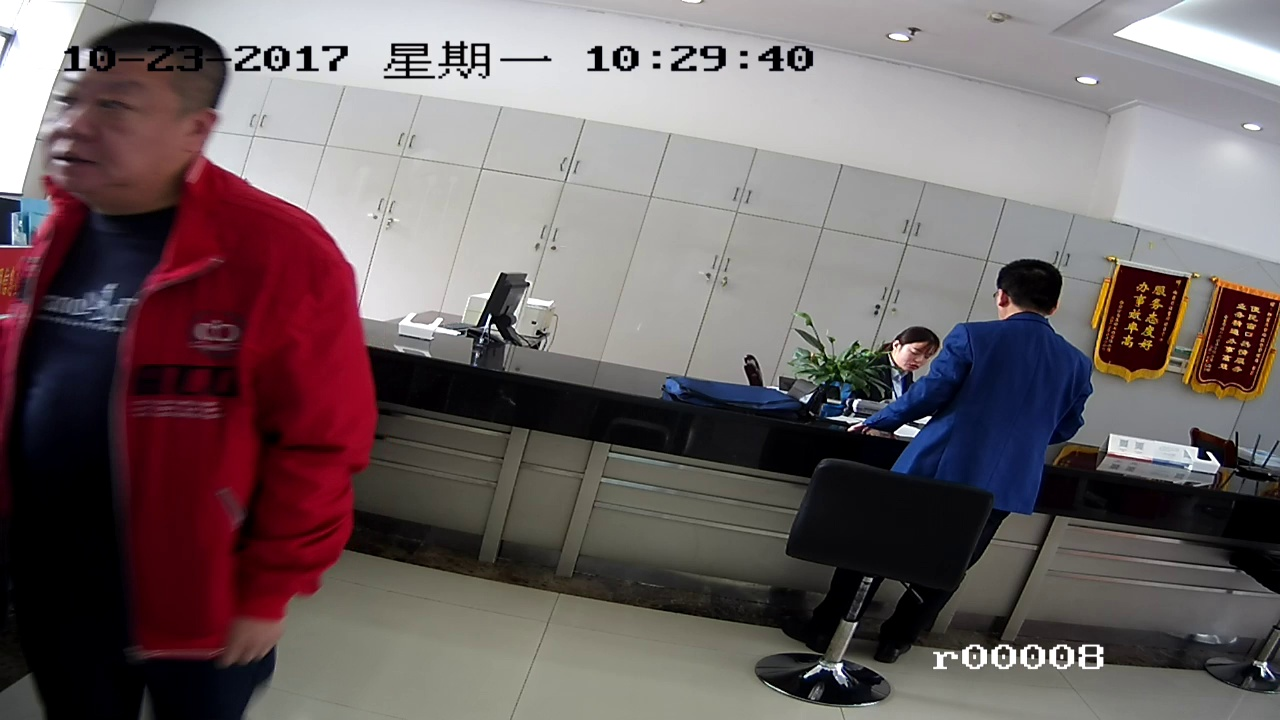chair: (765, 461, 997, 710)
person: (31, 35, 372, 685), (921, 248, 1095, 492), (882, 330, 941, 377)
pot: (793, 326, 892, 421)
